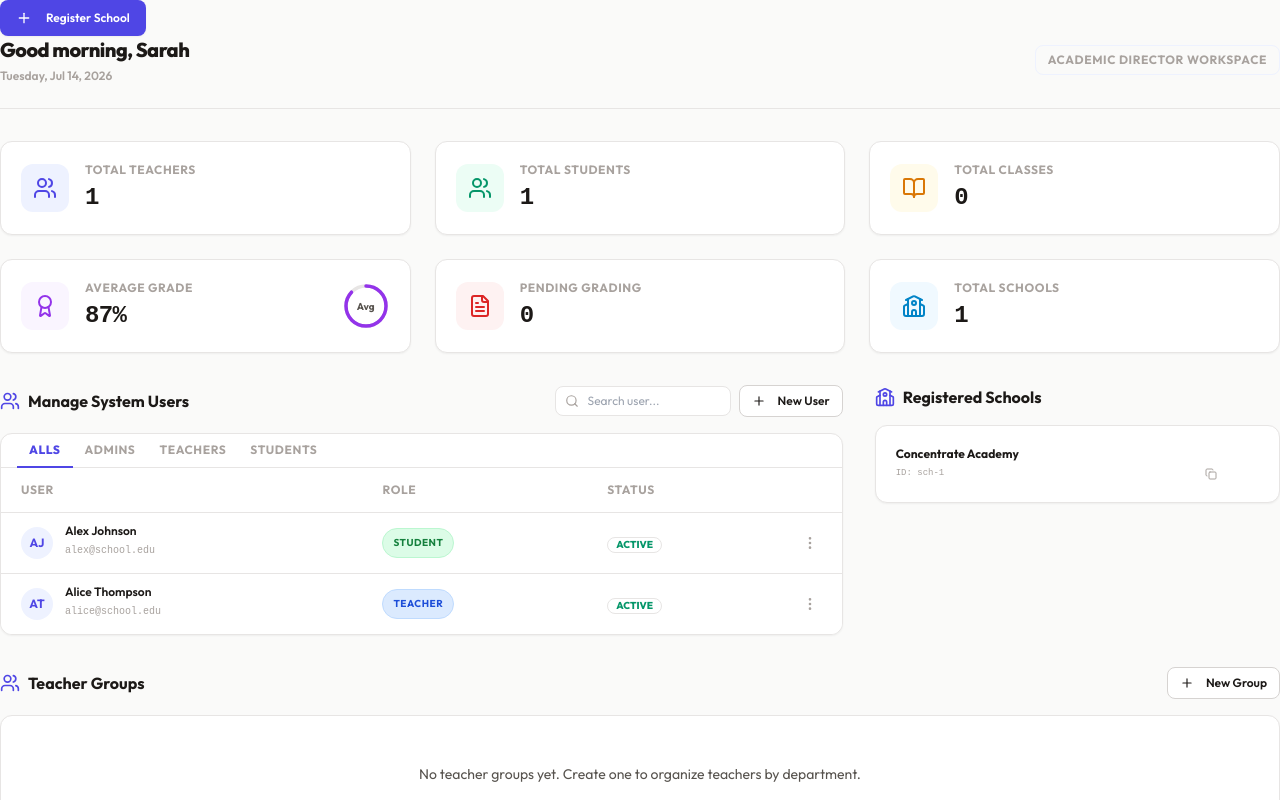
AdminDashboard › registers a new school through the modal, including the empty-name validation error
Expected: the text "Concentrate Academy" is shown, [896,446,1019,461]
Click the button "Register School".
click(73, 18)  # box [0,0,146,36]
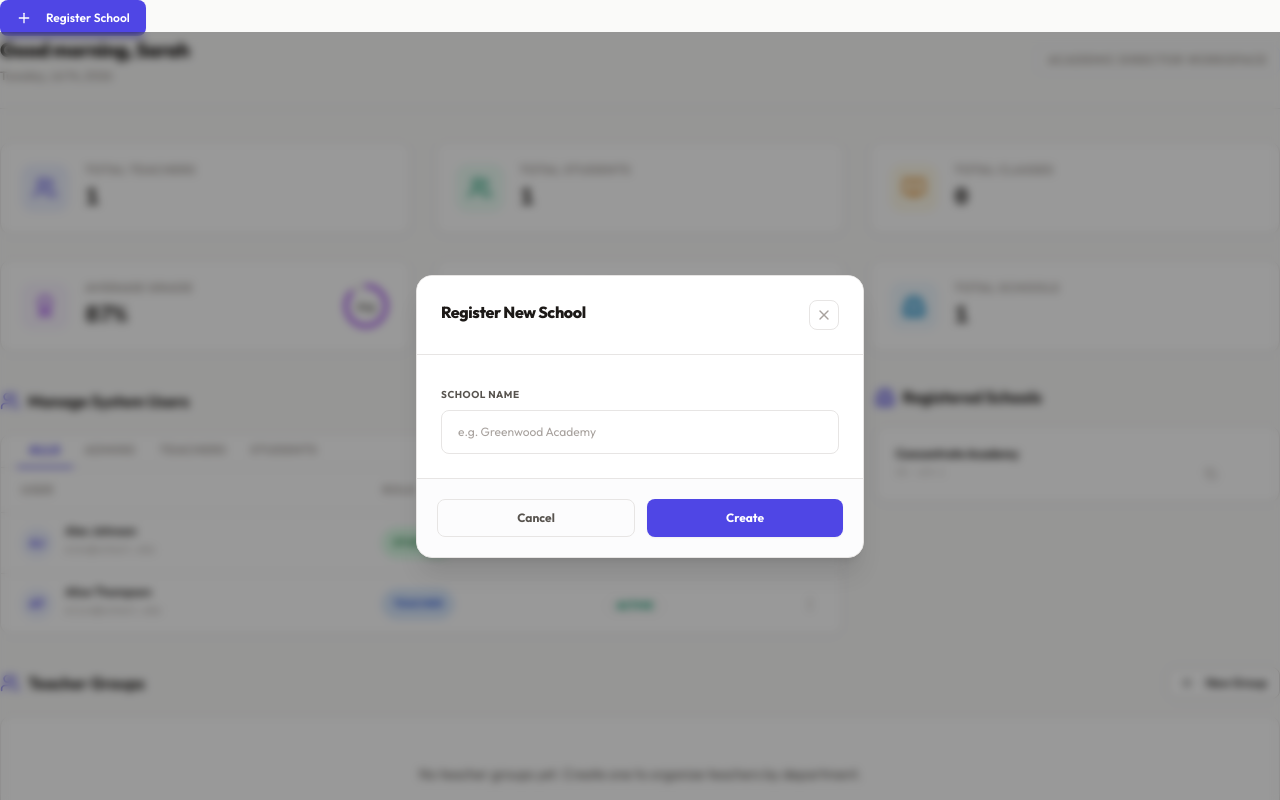
Click the button "Create".
click(745, 518)  # box [647,498,843,536]
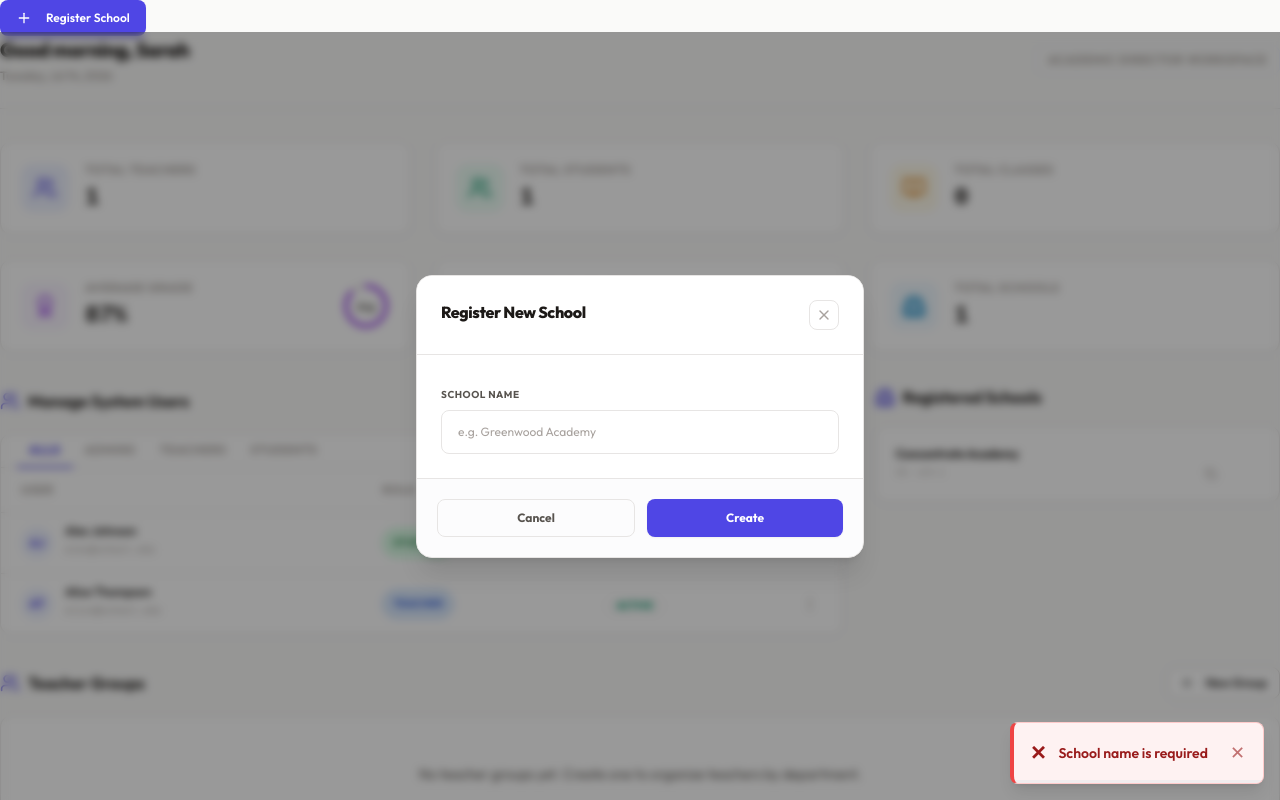
Expected: the text "School name is required" is shown, [1058,743,1216,763]
Type "New Academy" into the field labelled "School Name".
click(640, 432); type("New Academy")  # box [441,410,839,454]
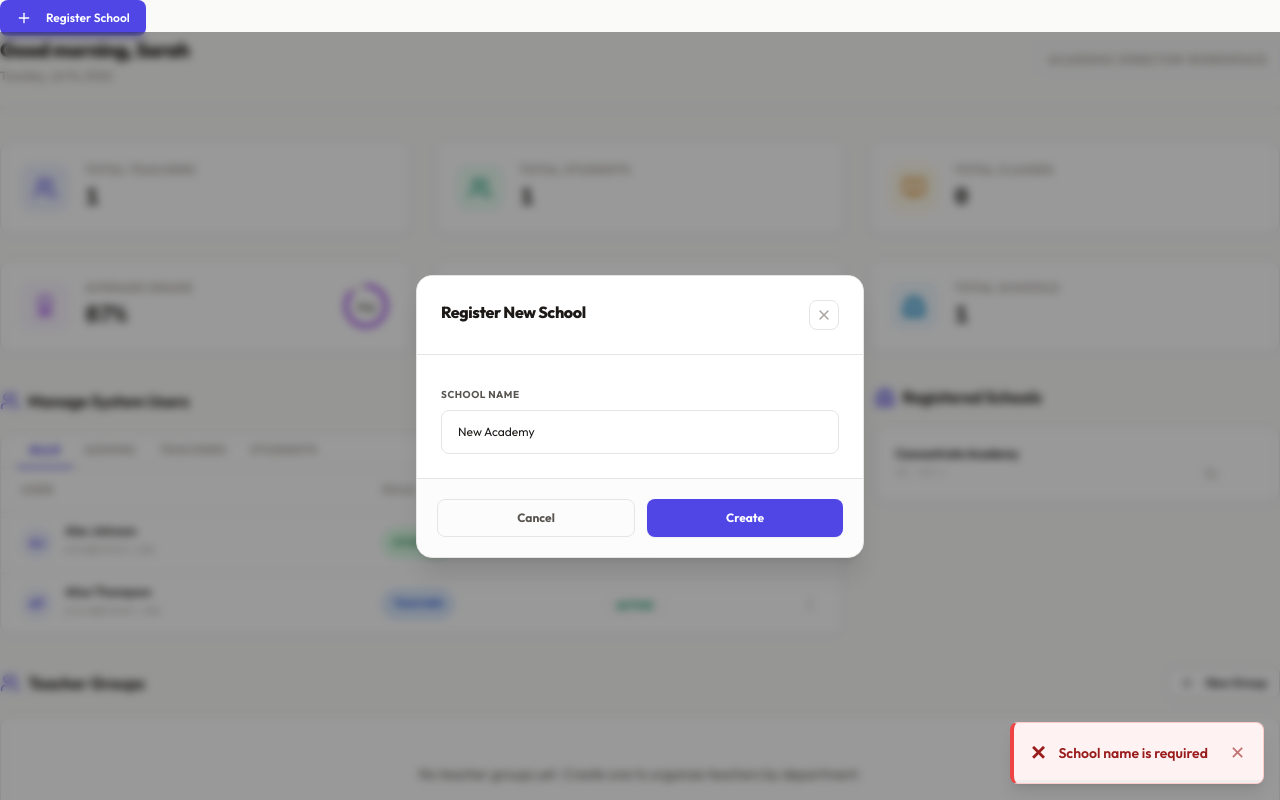
Click the button "Create".
click(745, 518)  # box [647,498,843,536]
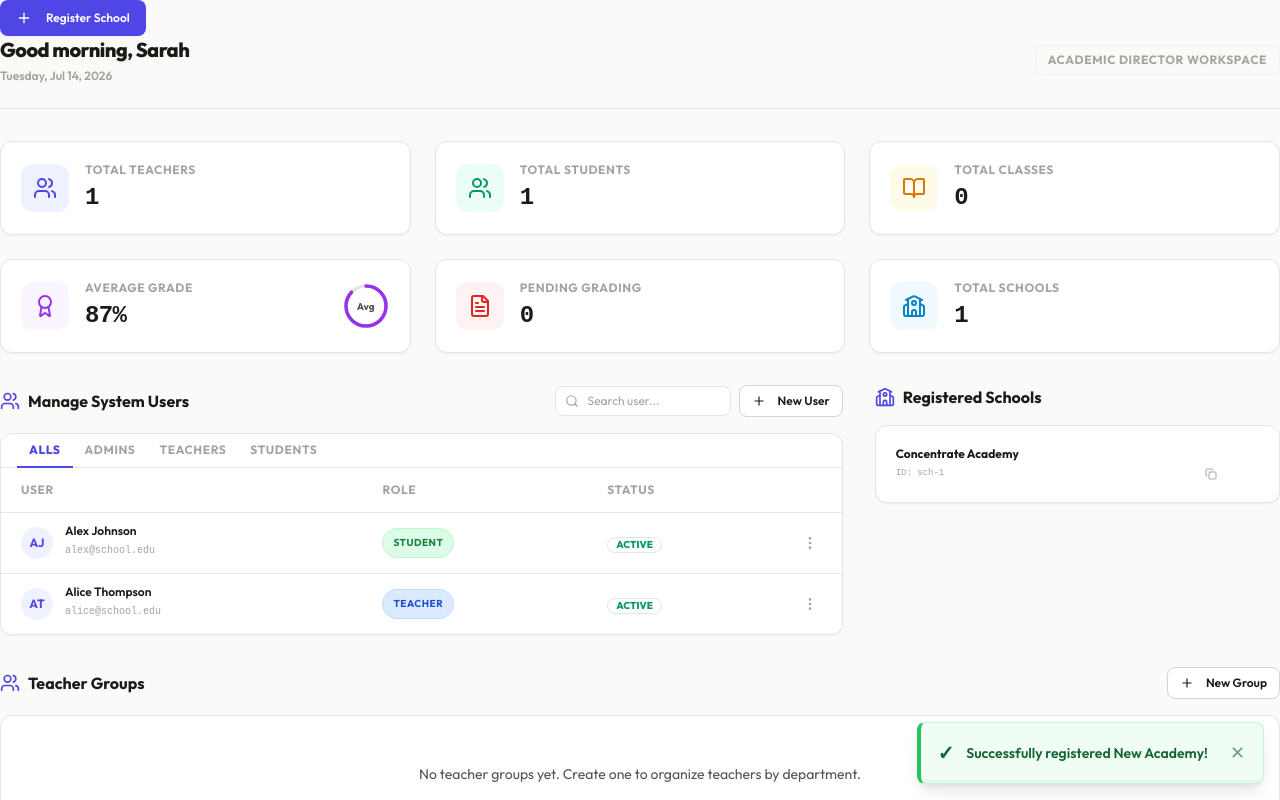
Expected: the text "Successfully registered New Academy!" is shown, [966,743,1216,763]
